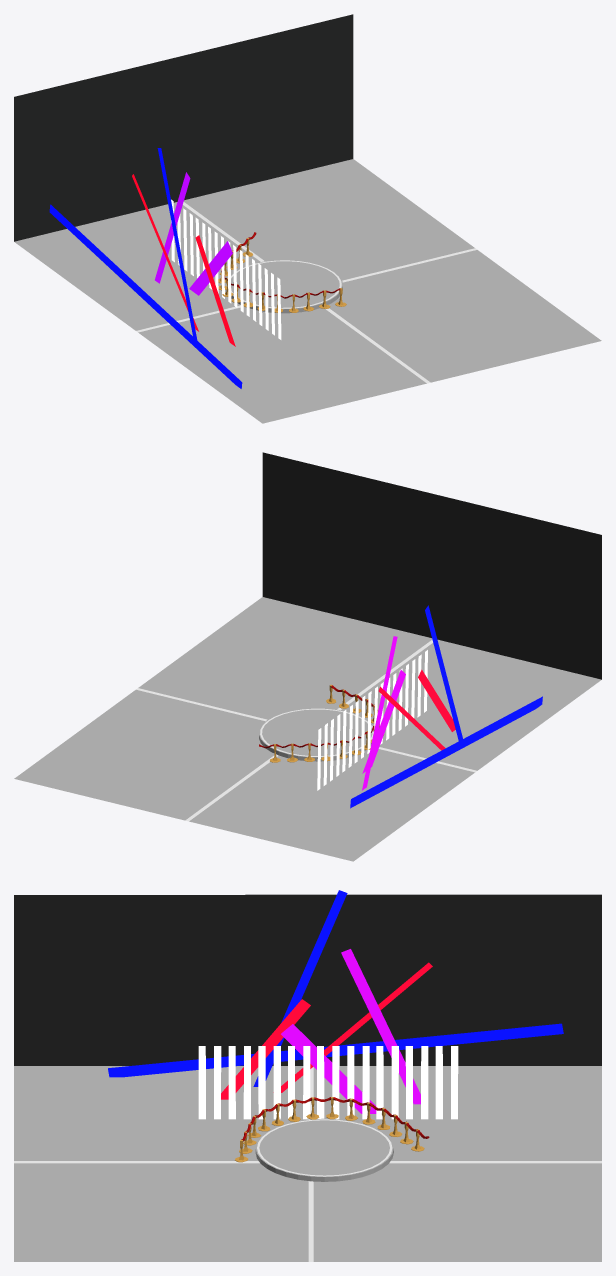
File: car_selection_rework.glb
The picture shows the model from 3 angles, top to bottom: view 1: azimuth 30°, elevation 25°; view 2: azimuth 150°, elevation 25°; view 3: azimuth 270°, elevation 25°; orthographic projection. The views are drawn at different scales.
Parts seen in each view (by area): view 1: salon, adornos_2, plataforma, adornos.007, baranda; view 2: salon, adornos_2, plataforma, adornos.007, baranda; view 3: salon, adornos_2, adornos.007, plataforma, baranda.
Part boxes in pixels (x1,y1,x2,y2): salon: [14, 14, 601, 423]; adornos_2: [49, 148, 242, 388]; plataforma: [226, 260, 342, 313]; adornos.007: [171, 199, 281, 339]; baranda: [218, 232, 346, 312]; salon: [14, 452, 601, 861]; adornos_2: [350, 605, 542, 808]; plataforma: [259, 708, 373, 761]; adornos.007: [317, 650, 427, 790]; baranda: [259, 684, 384, 762]; salon: [14, 894, 601, 1261]; adornos_2: [108, 890, 563, 1113]; adornos.007: [198, 1046, 458, 1119]; plataforma: [255, 1118, 393, 1181]; baranda: [235, 1097, 429, 1162].
Size of the model in its own units: 22.76 by 13.54 by 28.87.
